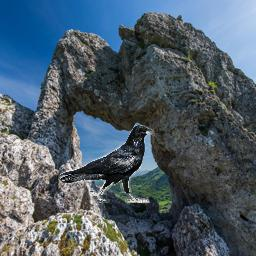Crow: (58, 125, 155, 203)
